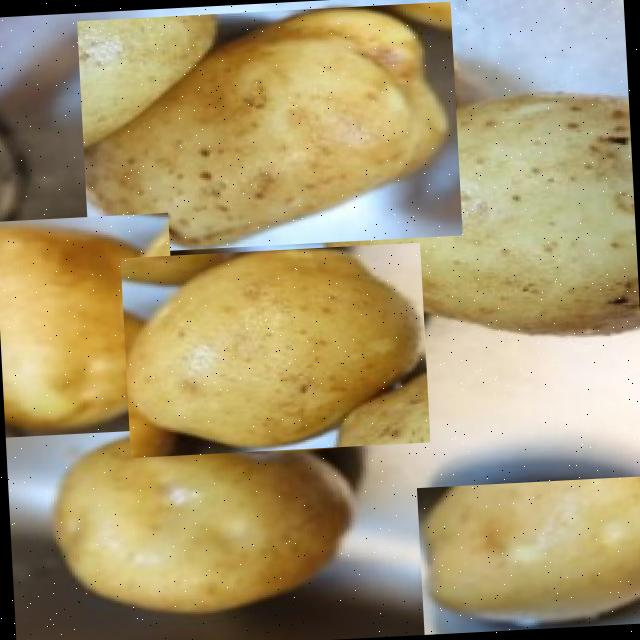Potato: (77, 1, 463, 254), (299, 88, 640, 359), (43, 418, 366, 626), (120, 242, 430, 457), (0, 211, 179, 436), (417, 475, 640, 635)
